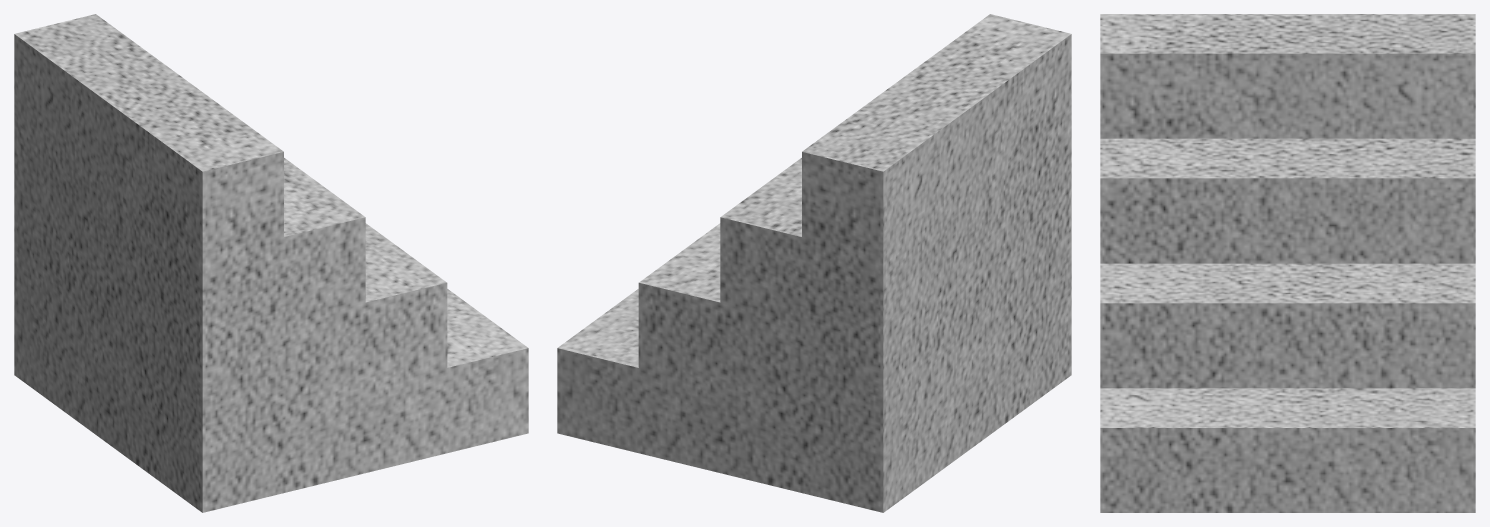
Rendered from stairs.obj.
The picture shows the model from 3 angles, left to right: view 1: azimuth 30°, elevation 25°; view 2: azimuth 150°, elevation 25°; view 3: azimuth 270°, elevation 25°; orthographic projection.
Size of the model in its own units: 2 by 2 by 2.
